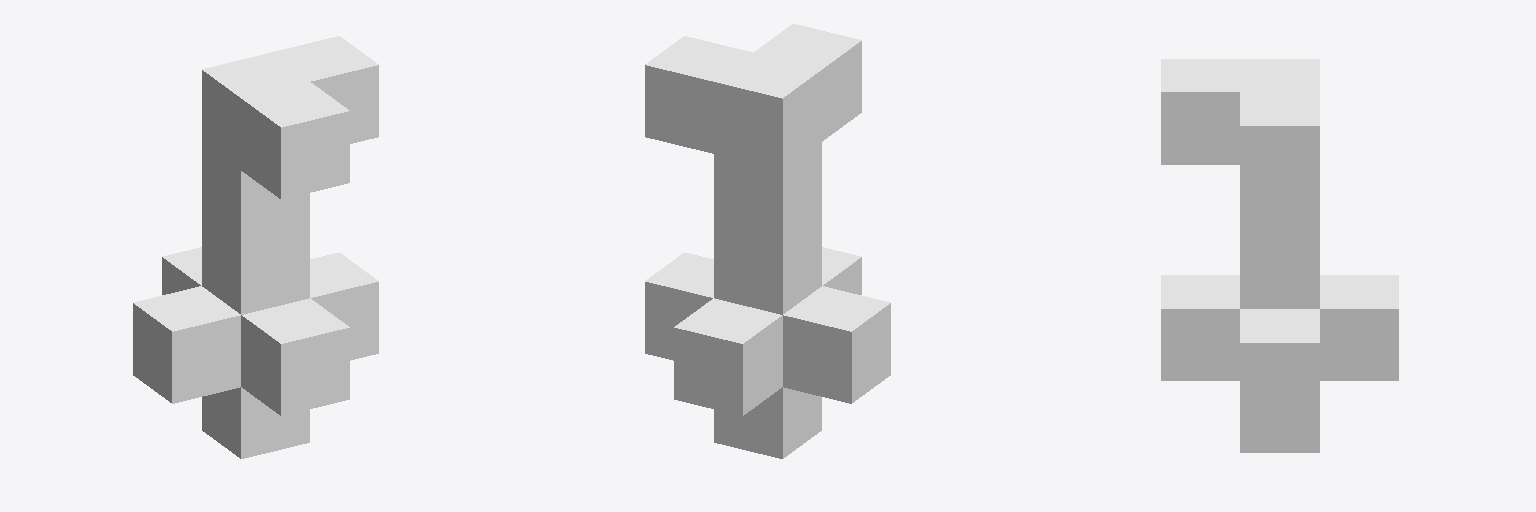
The model's file is Beet.obj.
3 renders of one model, left to right at view 1: azimuth 30°, elevation 25°; view 2: azimuth 150°, elevation 25°; view 3: azimuth 270°, elevation 25°, orthographic.
Visible parts, largest first — view 1: object 1; view 2: object 1; view 3: object 1.
Boxes of the visible parts, <box> form: object 1: <box>133,36,378,458</box>; object 1: <box>645,24,890,458</box>; object 1: <box>1161,59,1398,452</box>.
Size of the model in its own units: 0.3 by 0.5 by 0.3.